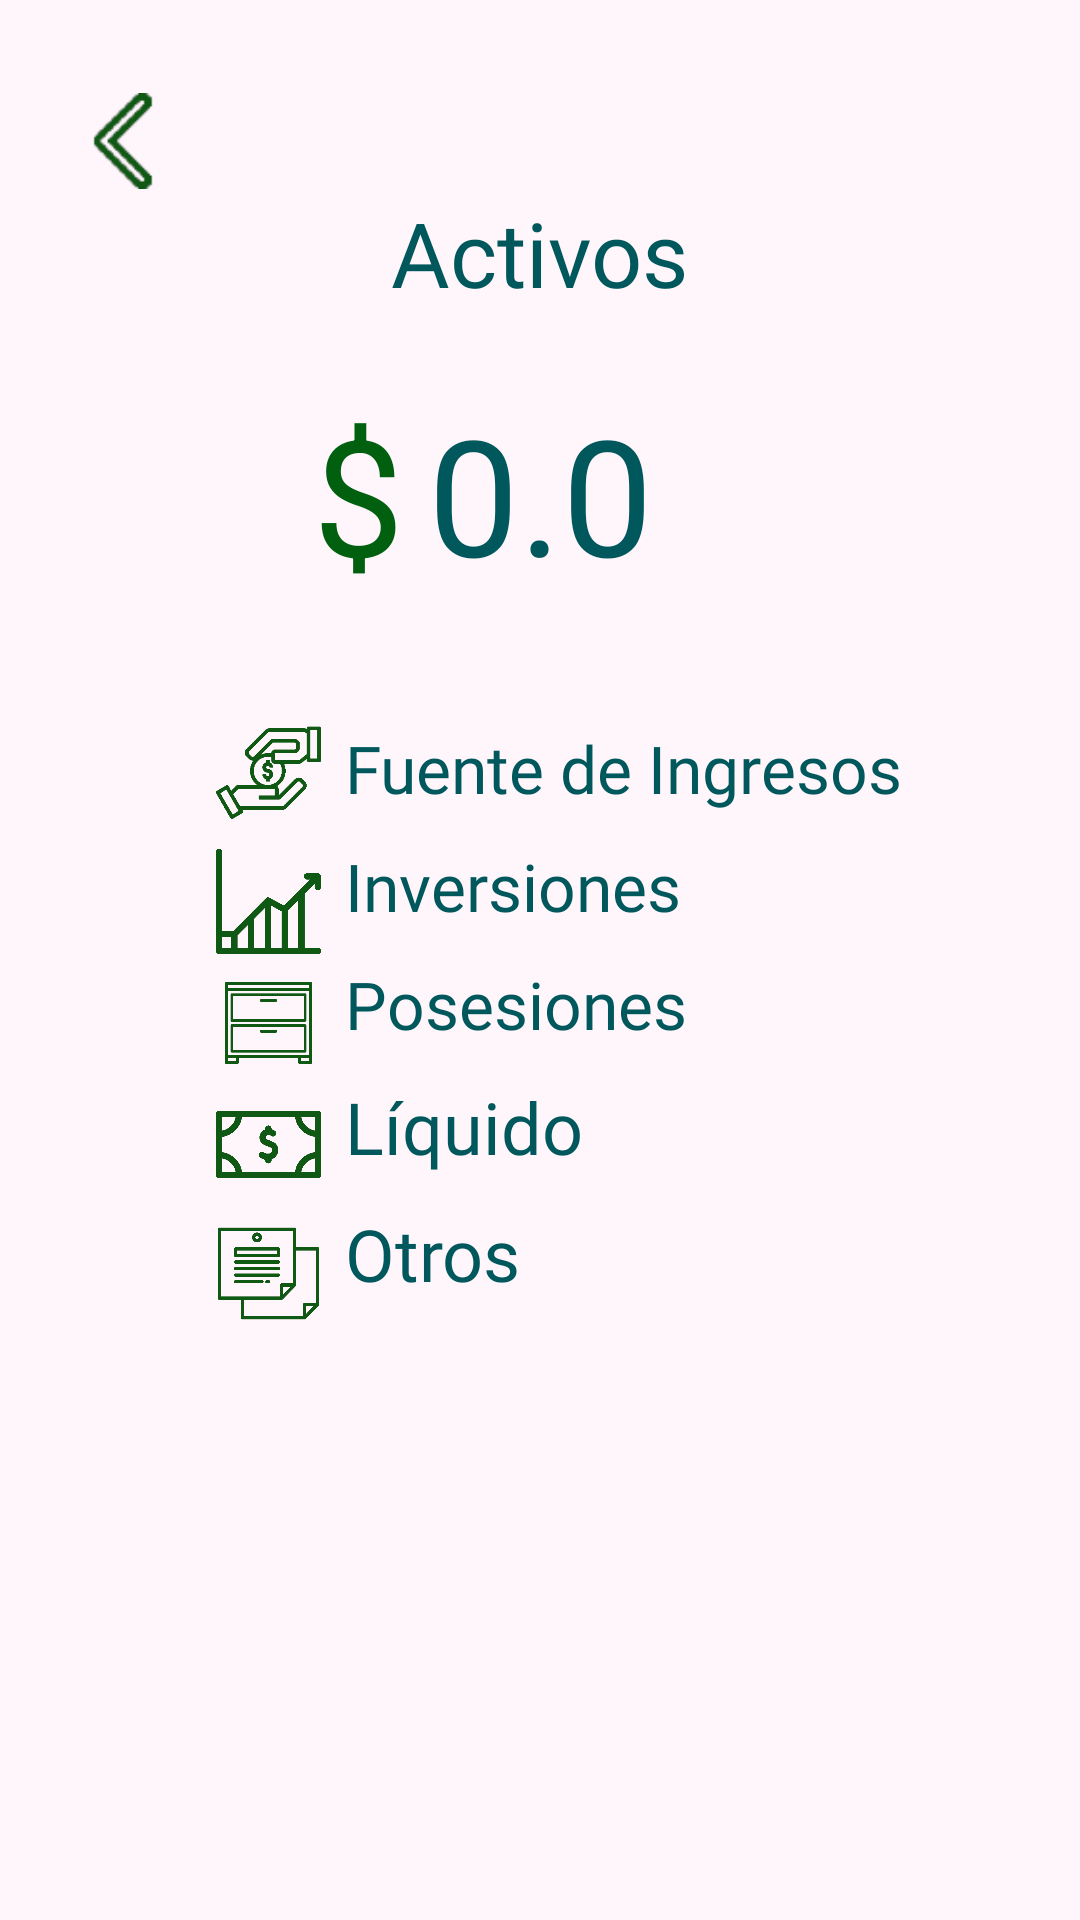

Icon bounding boxes for this 1080px x 1920px phone screenshot, format [left=x1, top=y1, right=x2, bottom=y2]:
aainvesmant: [left=216, top=849, right=321, bottom=954]
afingresos: [left=216, top=726, right=321, bottom=819]
aliquido: [left=216, top=1111, right=321, bottom=1178]
flecha: [left=93, top=93, right=153, bottom=189]
